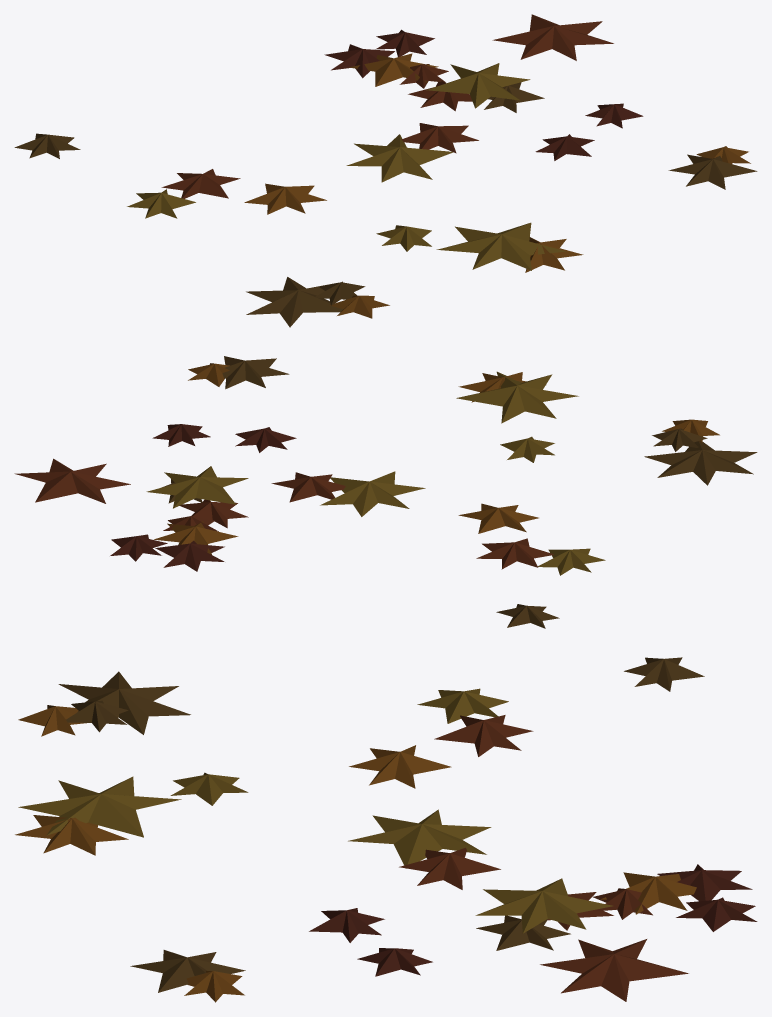
The picture shows the model from 3 angles, top to bottom: view 1: azimuth 30°, elevation 25°; view 2: azimuth 150°, elevation 25°; view 3: azimuth 270°, elevation 25°; orthographic projection. The views are drawn at different scales.
Parts seen in each view (by area): view 1: Fallen maple leaf; view 2: Fallen maple leaf; view 3: Fallen maple leaf.
Boxes of the visible parts, <box> form: Fallen maple leaf: <box>14,14,757,327</box>; Fallen maple leaf: <box>14,356,757,628</box>; Fallen maple leaf: <box>15,657,757,1002</box>.
Size of the model in its own units: 1.74 by 0.082 by 1.56.
